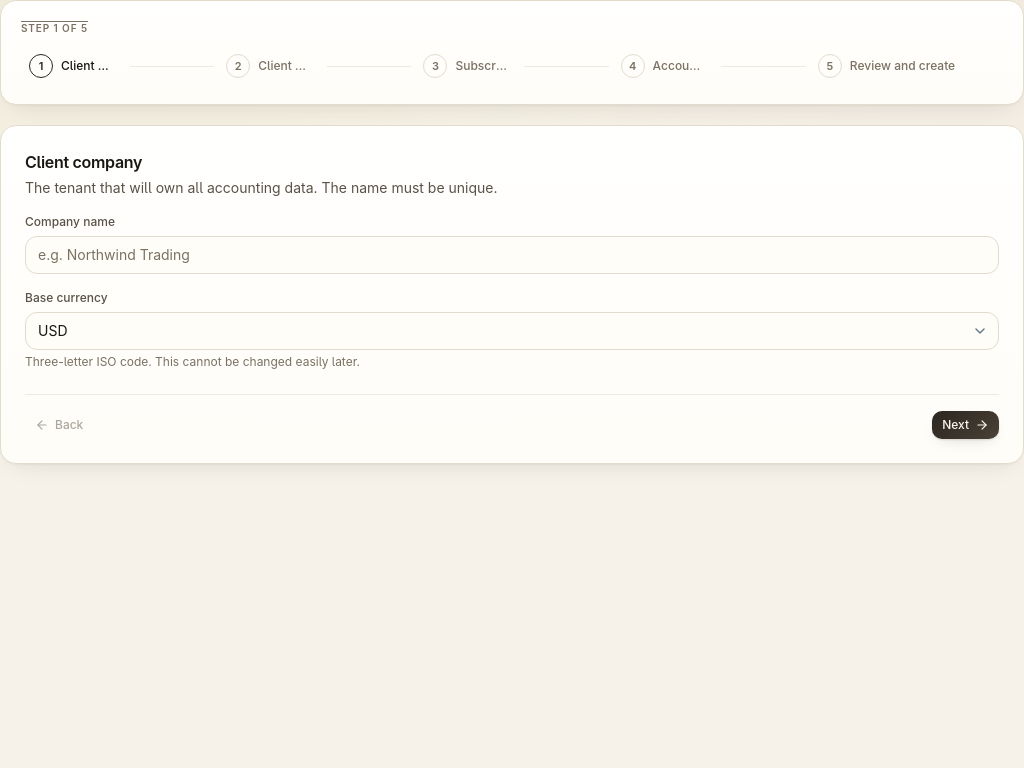
it: client onboarding wizard › refuses a manual password that the backend policy would reject
This screenshot has width=1024, height=768.
Type "Northwind Trading" into the field labelled "Company name".
click(512, 255); type("Northwind Trading")  # box [25, 236, 999, 274]
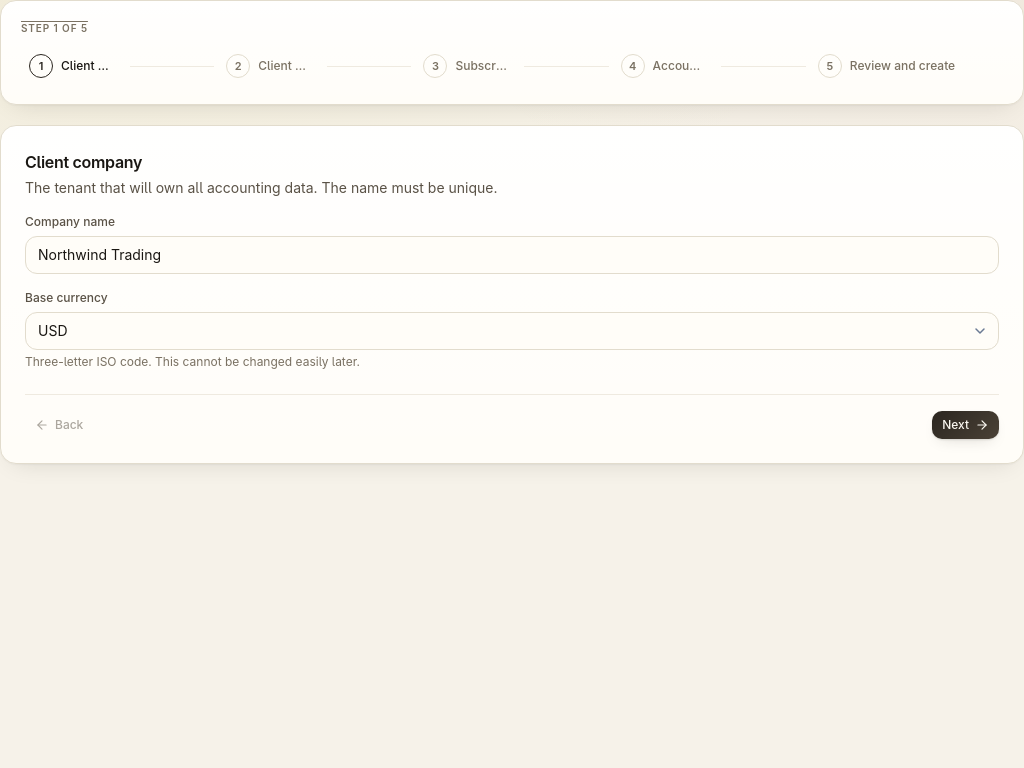
Click the button "Next".
click(966, 425)  # box [932, 411, 999, 439]
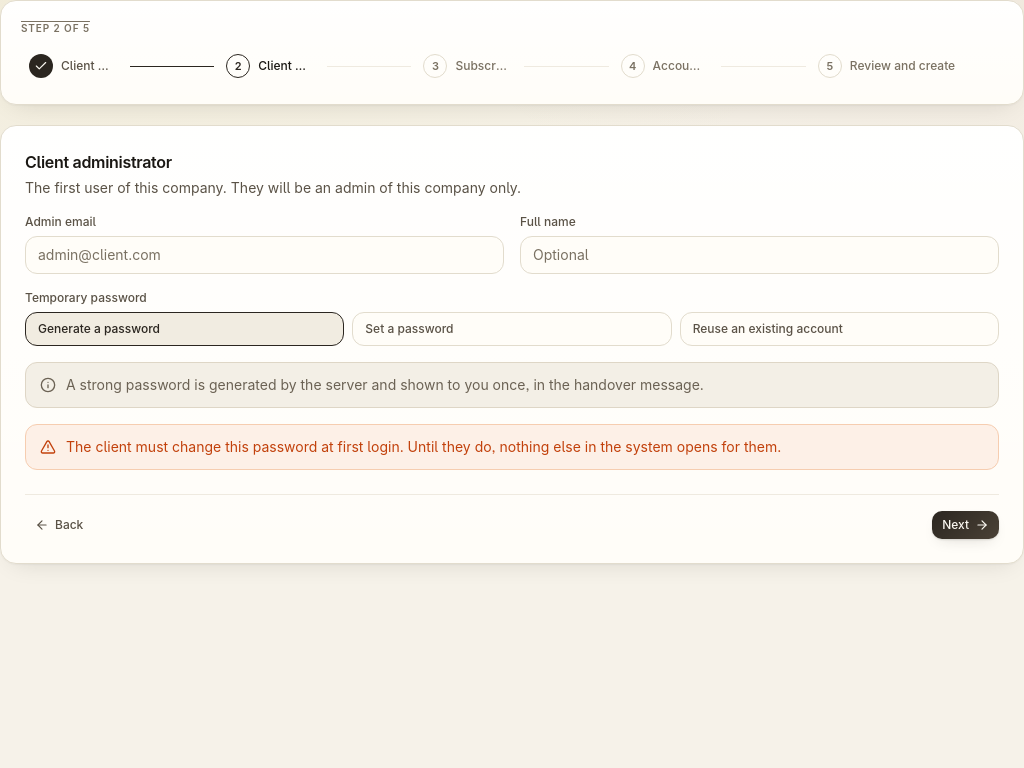
Type "admin@northwind.test" into the field labelled "Admin email".
click(264, 255); type("admin@northwind.test")  # box [25, 236, 504, 274]
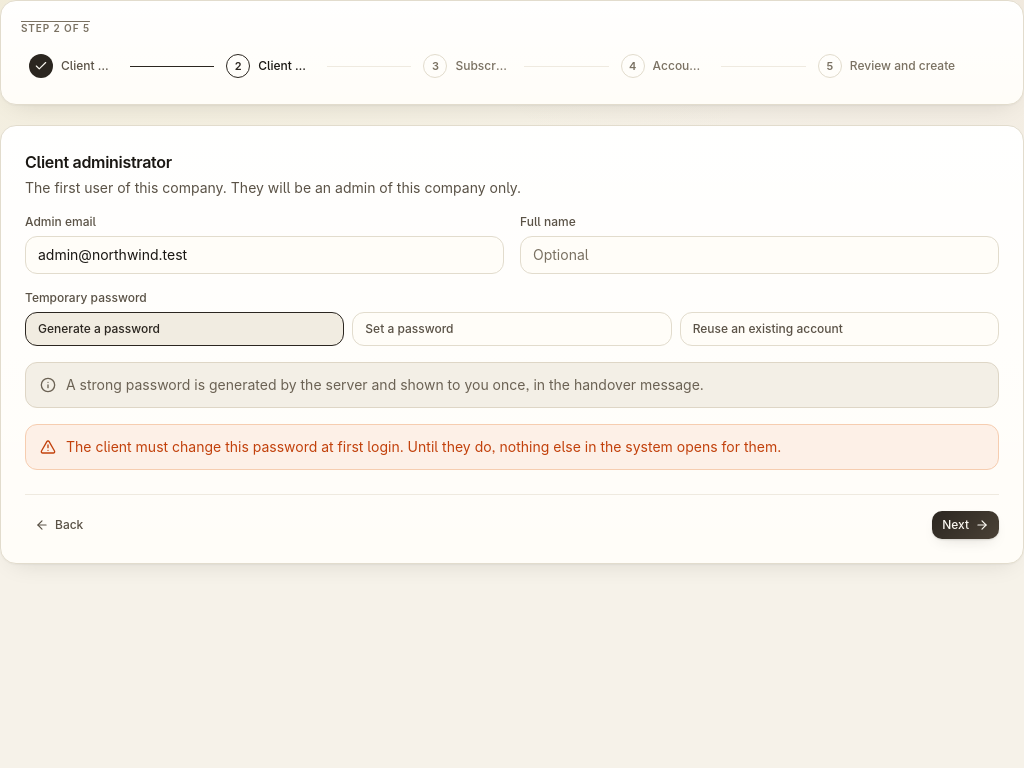
Click the radio button labelled "Set a password".
click(409, 328)  # box [352, 312, 672, 346]
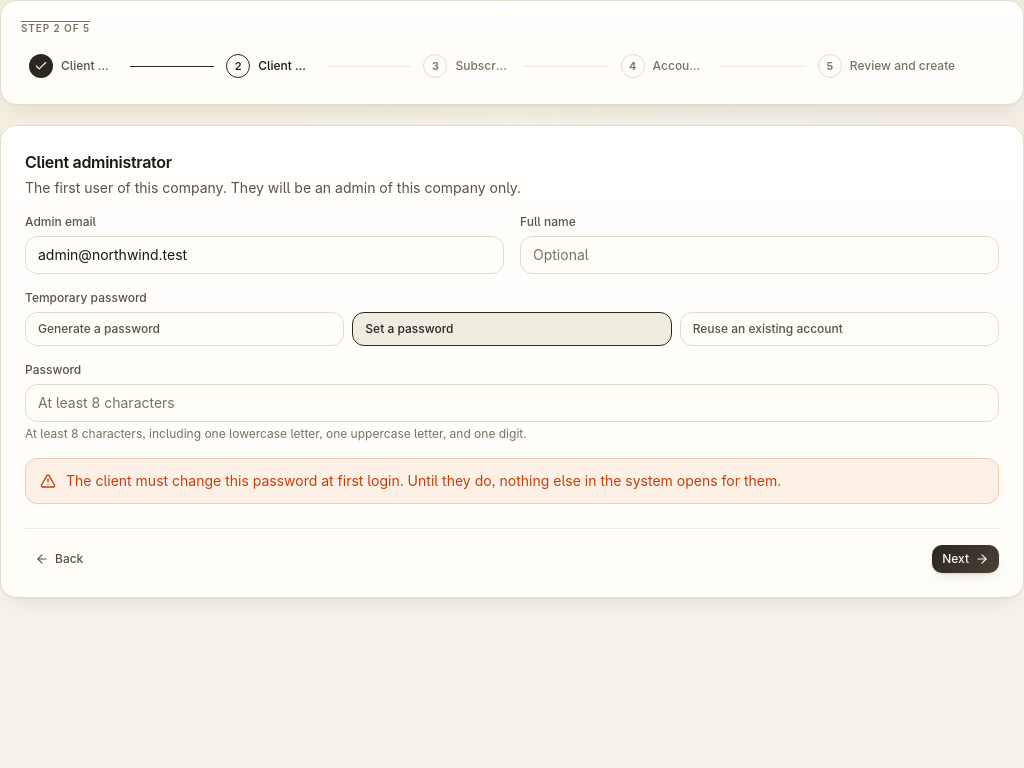
Type "weakpass" into the field labelled "Password".
click(512, 403); type("weakpass")  # box [25, 384, 999, 422]
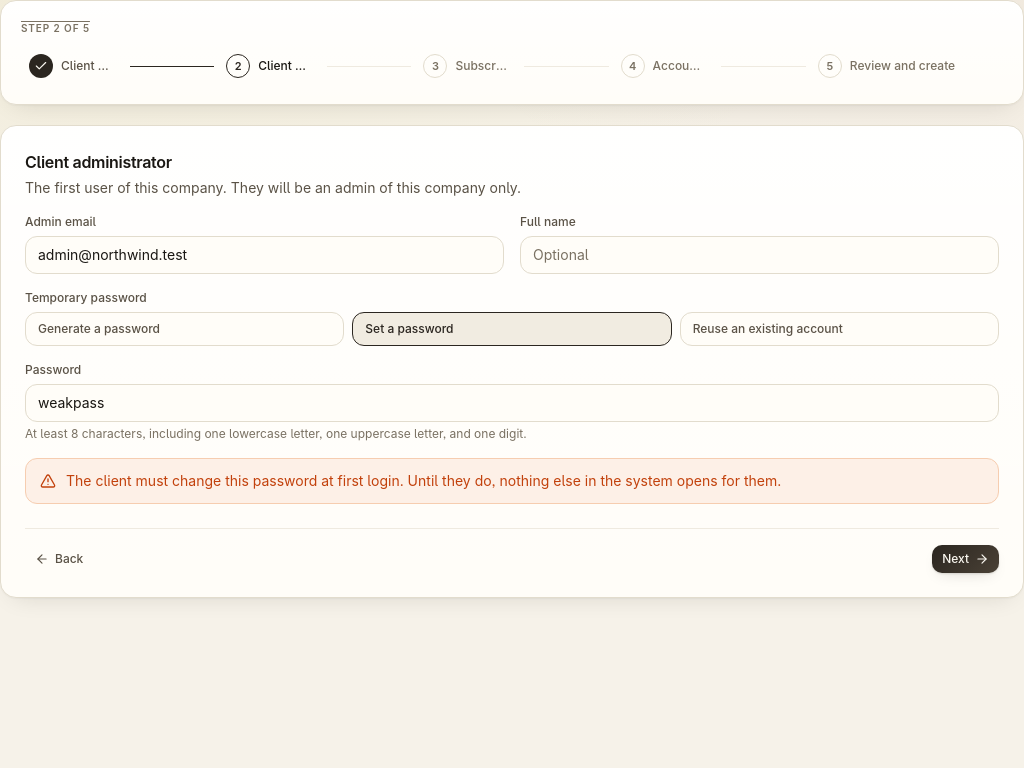
Click the button "Next".
click(966, 559)  # box [932, 545, 999, 573]
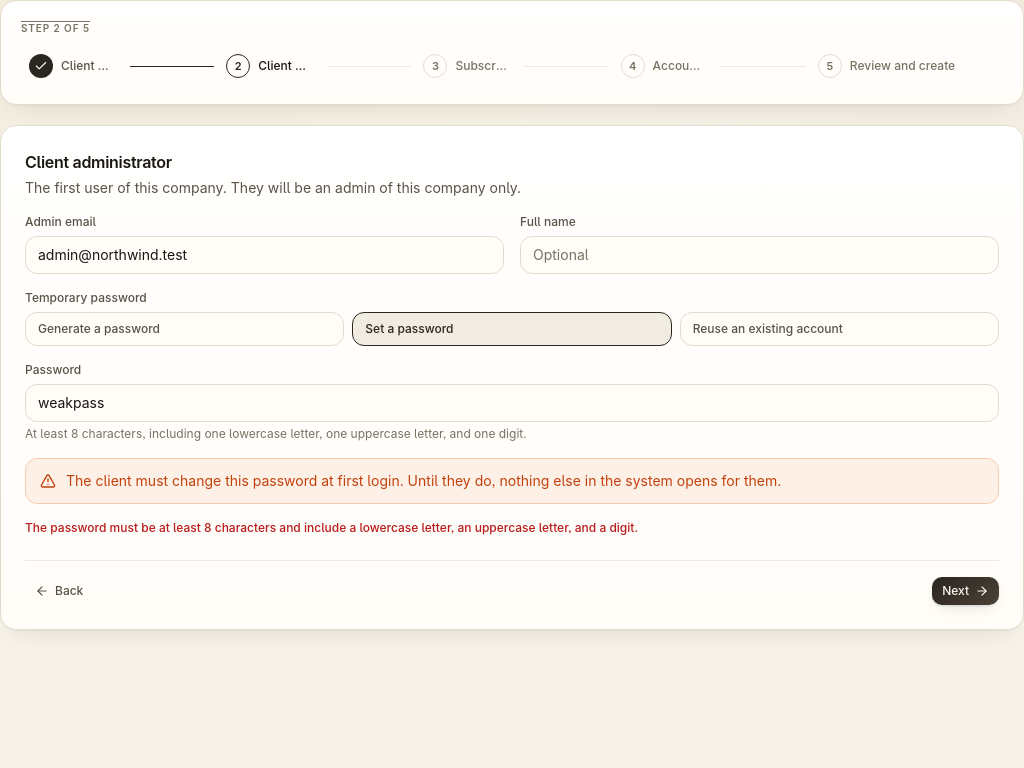
Expected: the text "The password must be at least 8 characters and include a lowercase letter, an uppercase letter, and a digit." is shown, [25, 520, 638, 535]
